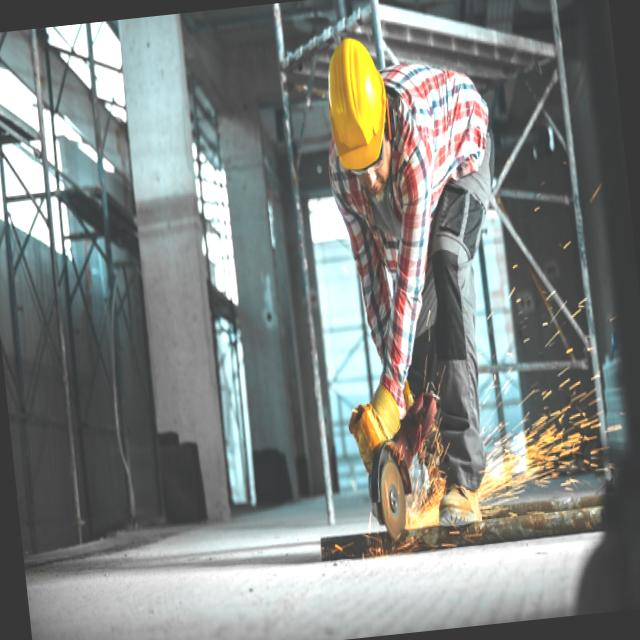goggles: (348, 146, 389, 187)
helmet: (318, 31, 396, 170)
no-vest: (391, 48, 492, 200)
